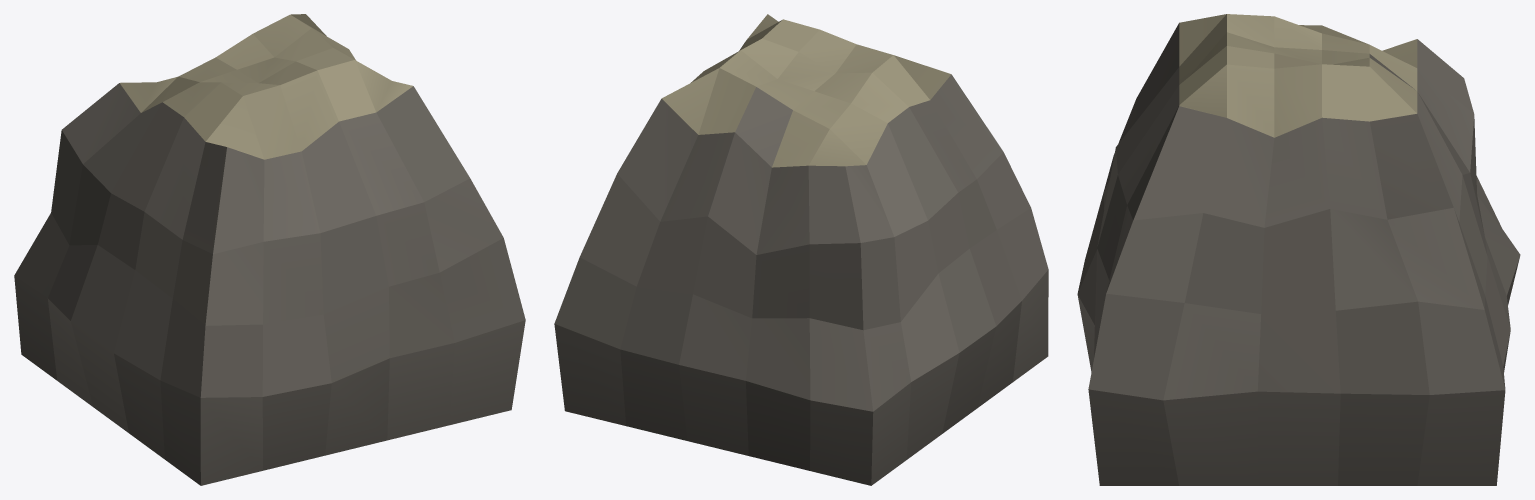
Rendered from roca_suelta.glb.
3 views of the same model, side by side, from view 1: azimuth 30°, elevation 25°; view 2: azimuth 150°, elevation 25°; view 3: azimuth 270°, elevation 25° (orthographic). The views are drawn at different scales.
Visible parts, largest first — view 1: propforge-cuartos-roca_suelta; view 2: propforge-cuartos-roca_suelta; view 3: propforge-cuartos-roca_suelta.
Part boxes in pixels (box(x1,y1,x2,y2)): propforge-cuartos-roca_suelta: box(14, 14, 525, 485); propforge-cuartos-roca_suelta: box(554, 14, 1048, 485); propforge-cuartos-roca_suelta: box(1077, 14, 1520, 485).
Size of the model in its own units: 0.905 by 0.8183 by 0.8927.
